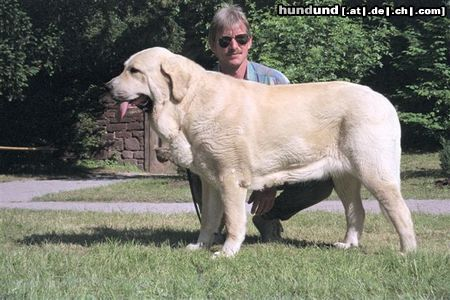human_face: (211, 16, 251, 66)
mastin_espanol: (102, 46, 416, 260)
person: (188, 6, 333, 244)
